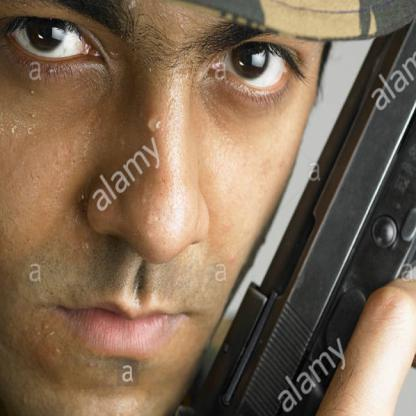gun: (155, 0, 416, 415)
